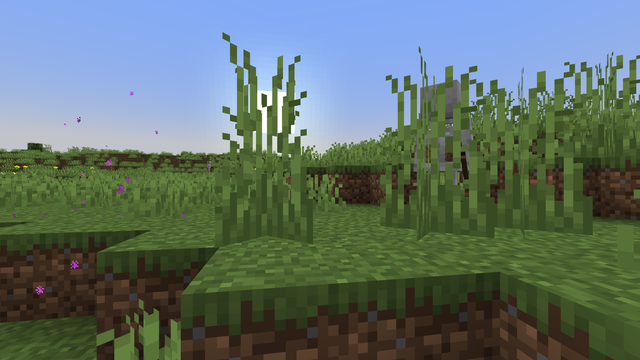squelettes: (413, 80, 474, 224), (206, 160, 210, 168)
